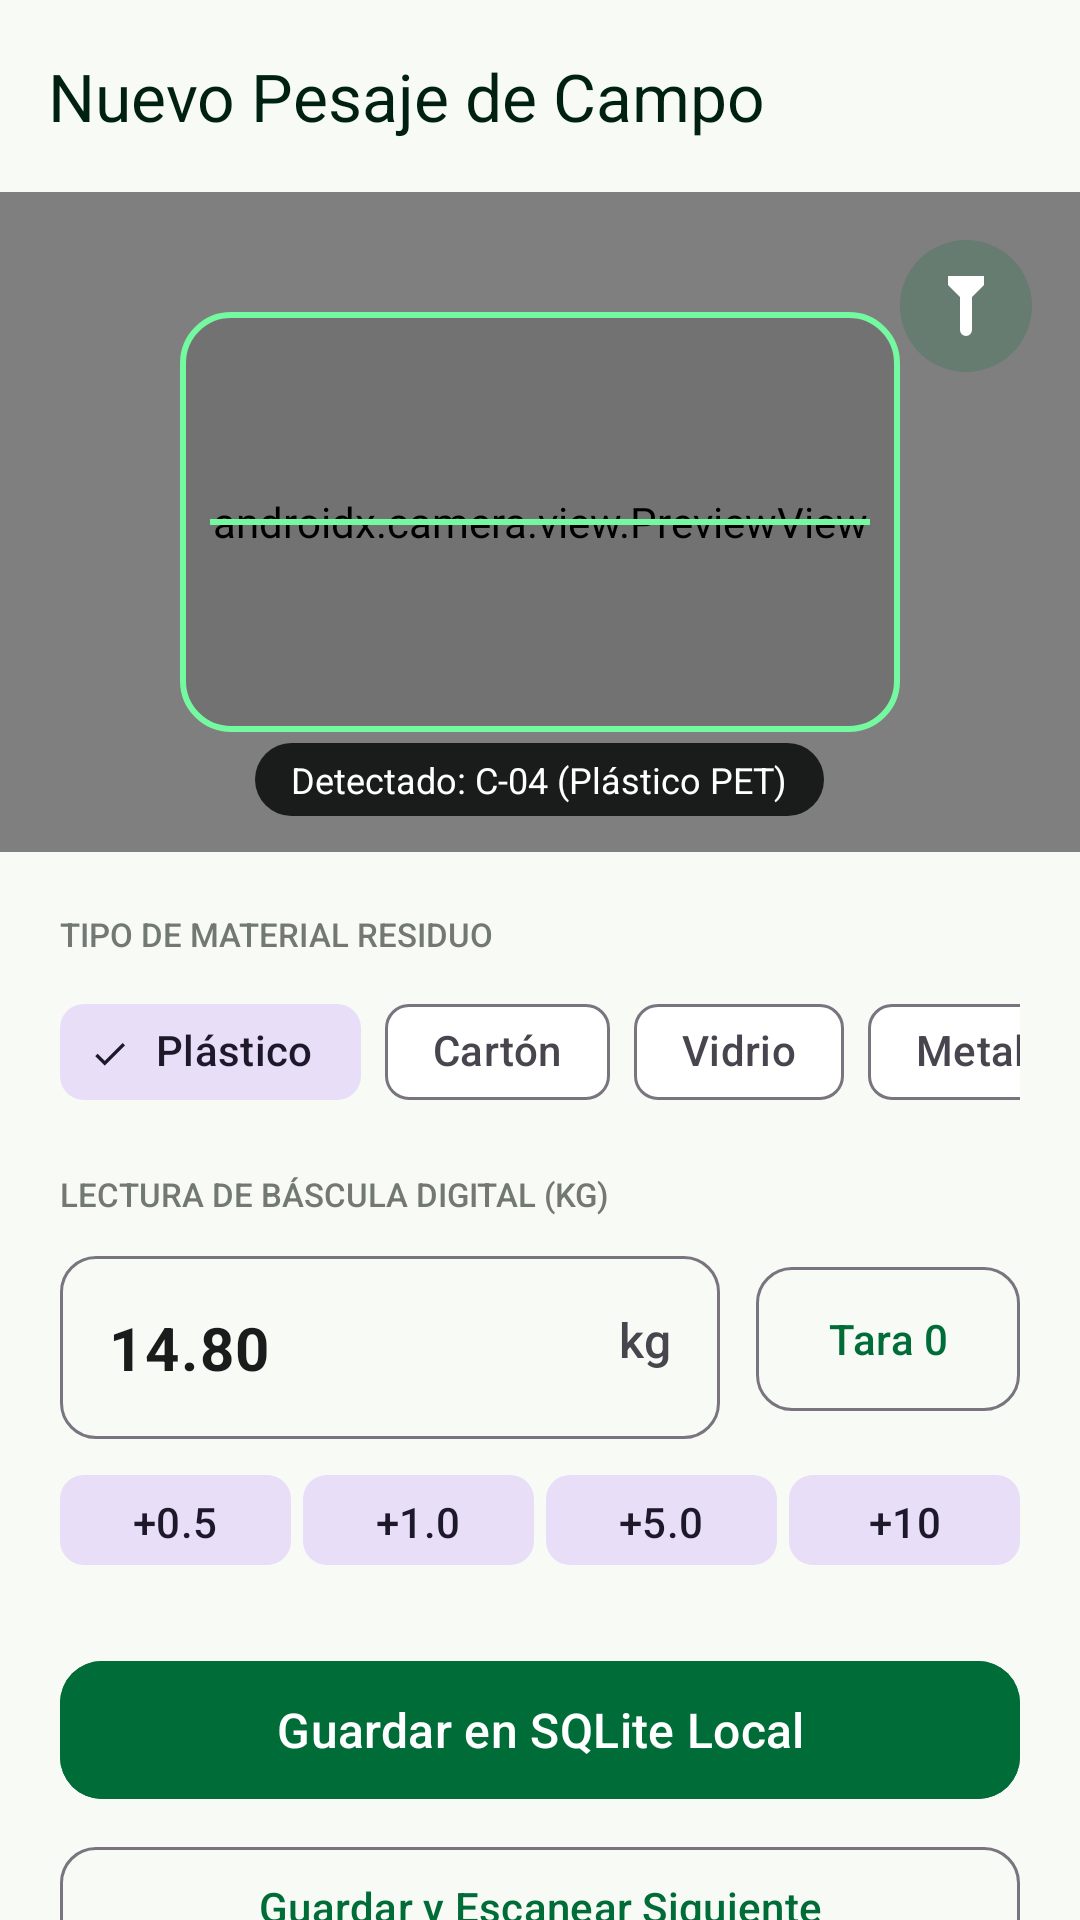

Screen size 1080px×1920px. Icon name, then its box in pixels as Rect(x1, y1, x2, y2):
flashlight: Rect(900, 240, 1032, 372)
